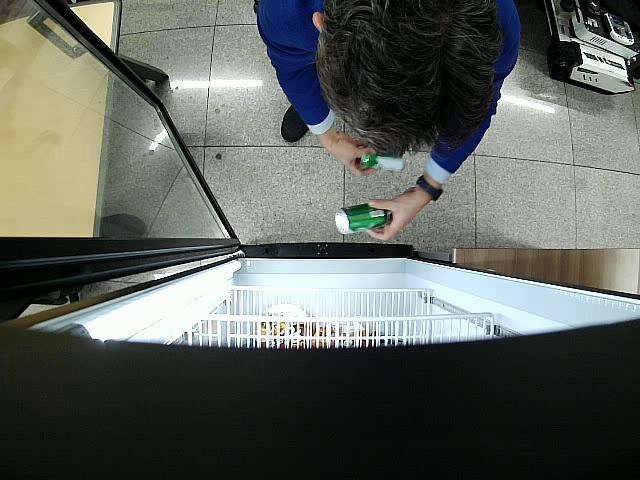12_chilsungCider: (334, 204, 392, 234), (360, 154, 406, 172)
